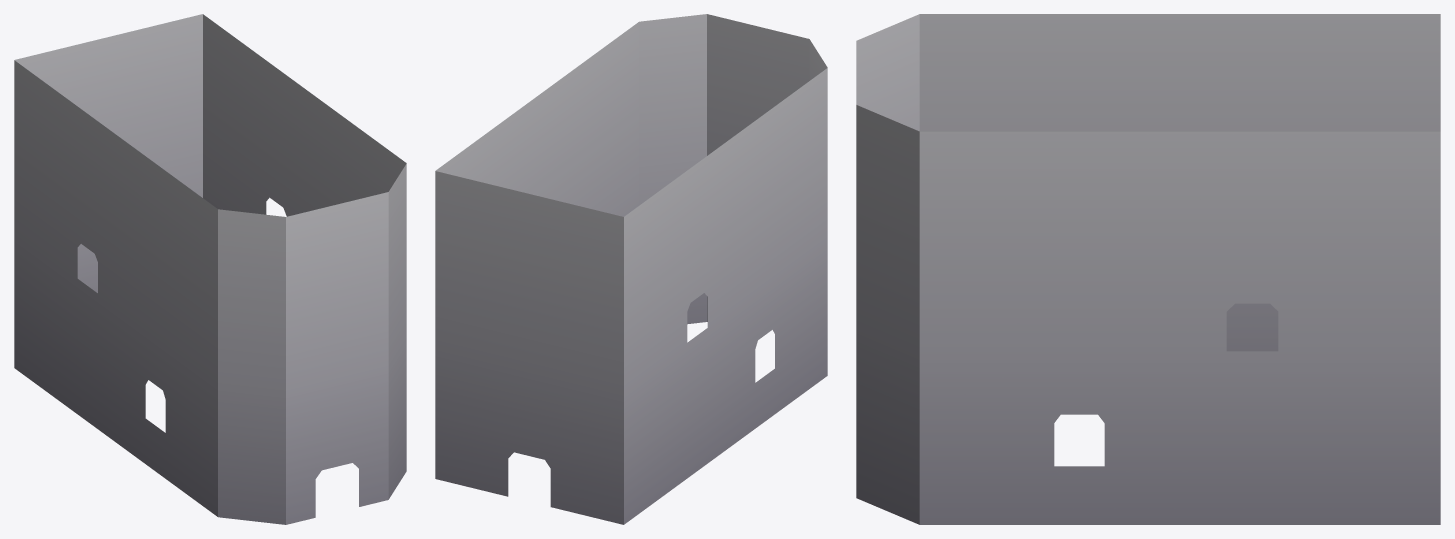
Rendered from Lobby_RoomWalls3.fbx.
3 views of the same model, side by side, from view 1: azimuth 30°, elevation 25°; view 2: azimuth 150°, elevation 25°; view 3: azimuth 270°, elevation 25° (orthographic). The views are drawn at different scales.
Visible parts, largest first — view 1: Lobby_RoomWalls3; view 2: Lobby_RoomWalls3; view 3: Lobby_RoomWalls3.
Boxes of the visible parts, box(x1,y1,x2,y2) form: Lobby_RoomWalls3: box(14, 14, 406, 524); Lobby_RoomWalls3: box(435, 14, 827, 524); Lobby_RoomWalls3: box(856, 14, 1440, 524).
Bounding box in the file's own units: 496 × 774 × 1041.
